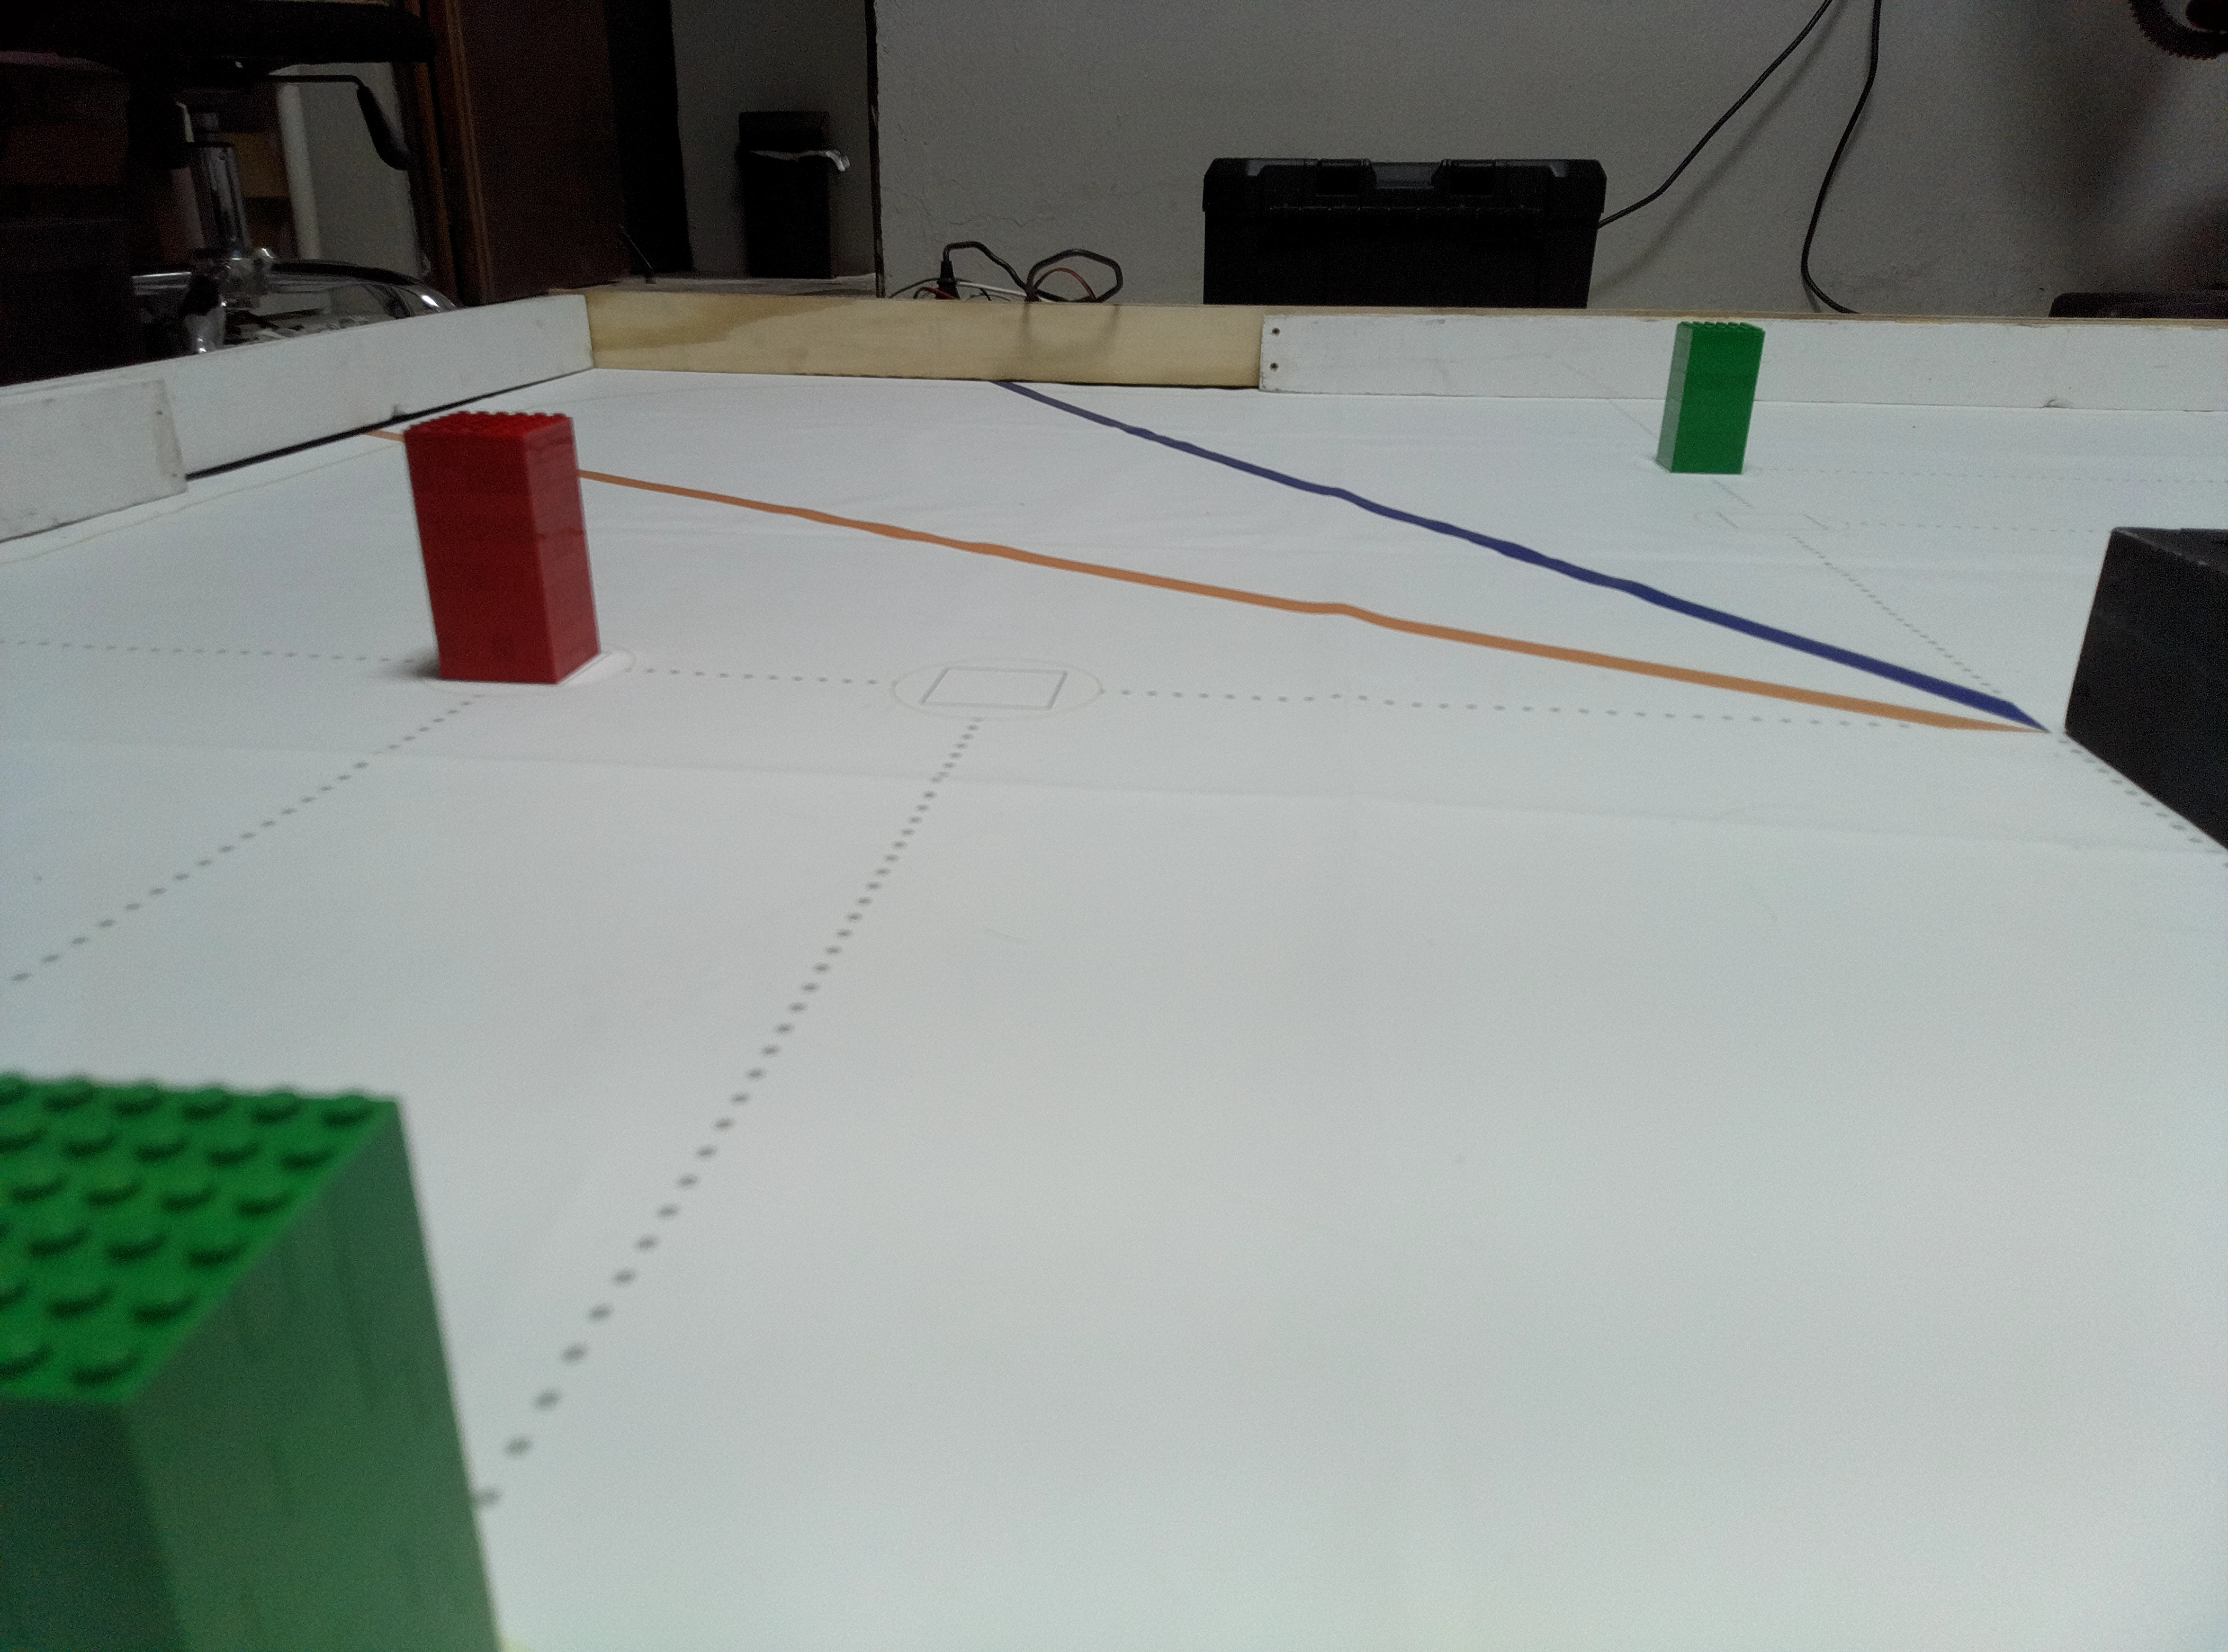greenbox: (0, 1052, 496, 1652), (1654, 319, 1770, 477)
redbox: (399, 408, 604, 685)
